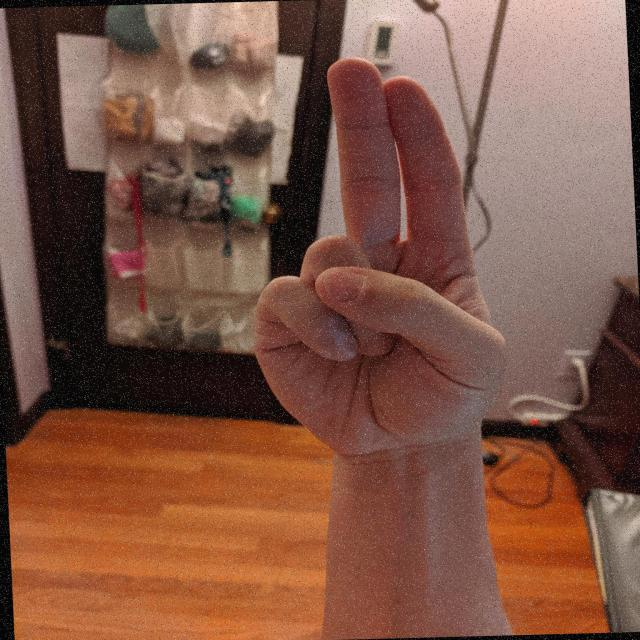U: (232, 48, 519, 462)
